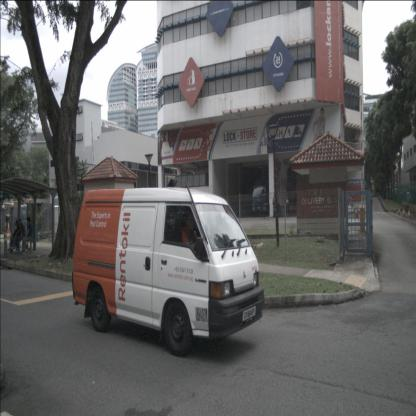human-pedestrian-adult: (11, 218, 26, 254), (7, 219, 20, 253), (22, 216, 33, 254)
movable_object-trafficcone: (402, 207, 406, 218), (7, 220, 10, 233), (398, 206, 401, 216), (408, 209, 411, 219), (393, 206, 396, 214)
vehicle-car: (72, 187, 264, 357), (251, 185, 275, 216)
